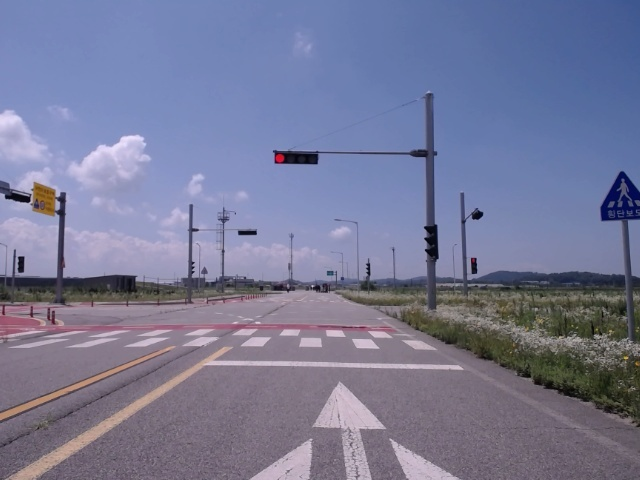red_4: (274, 152, 318, 165)
